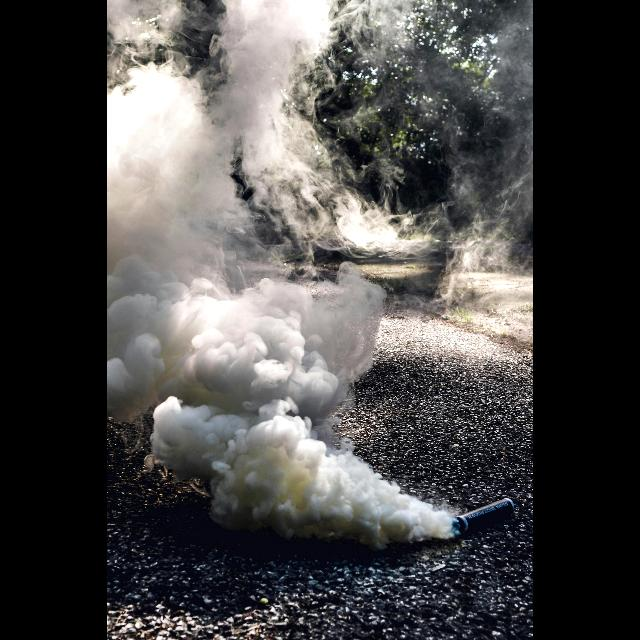smoke: (107, 0, 454, 545)
